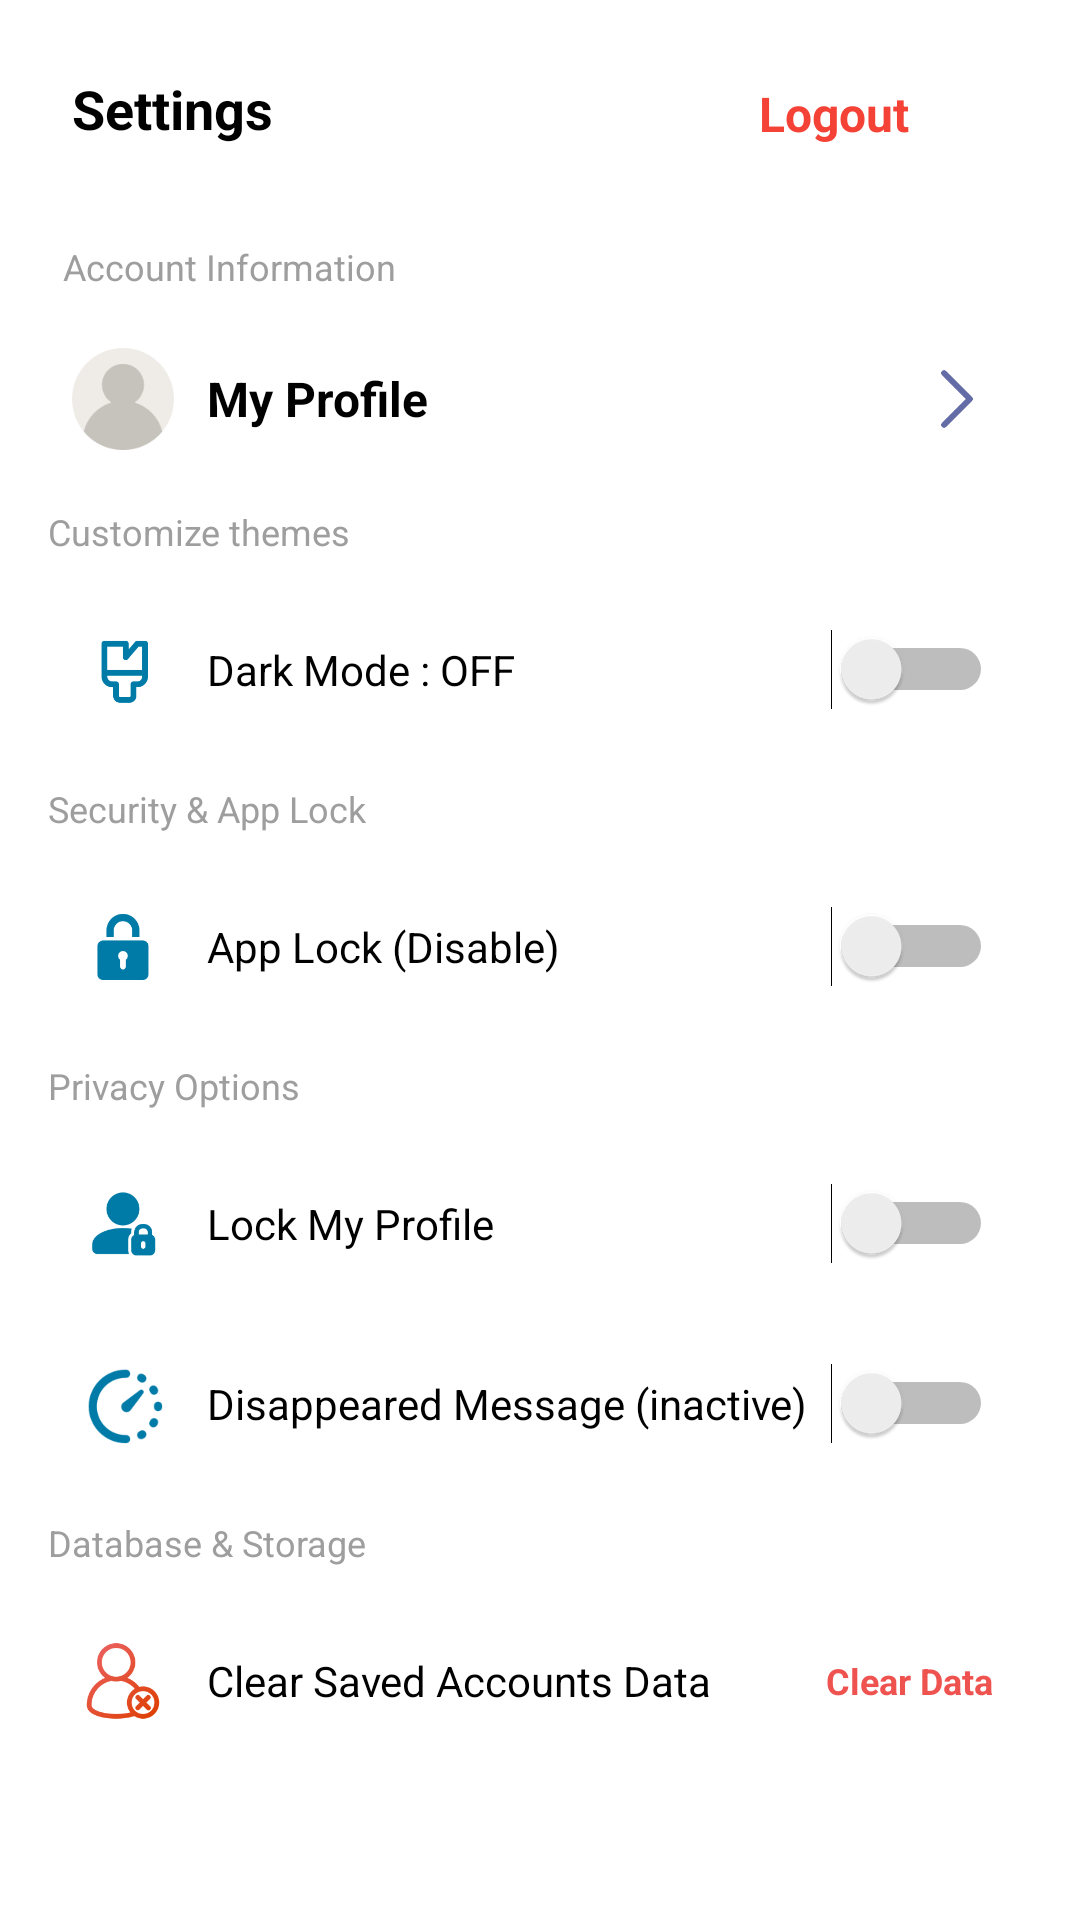

Screen size 1080 × 1920. Icon name, then its center in pixels as [x,y]:
delete user accounts: [123,1681]
next: [957,399]
paint brush: [124,672]
